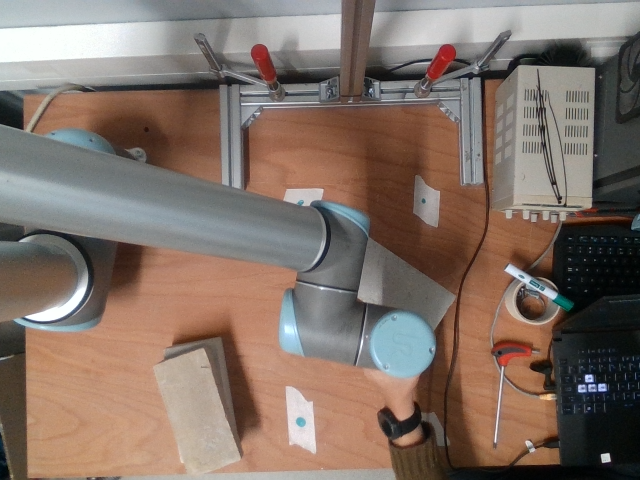brick: (155, 349, 239, 477)
